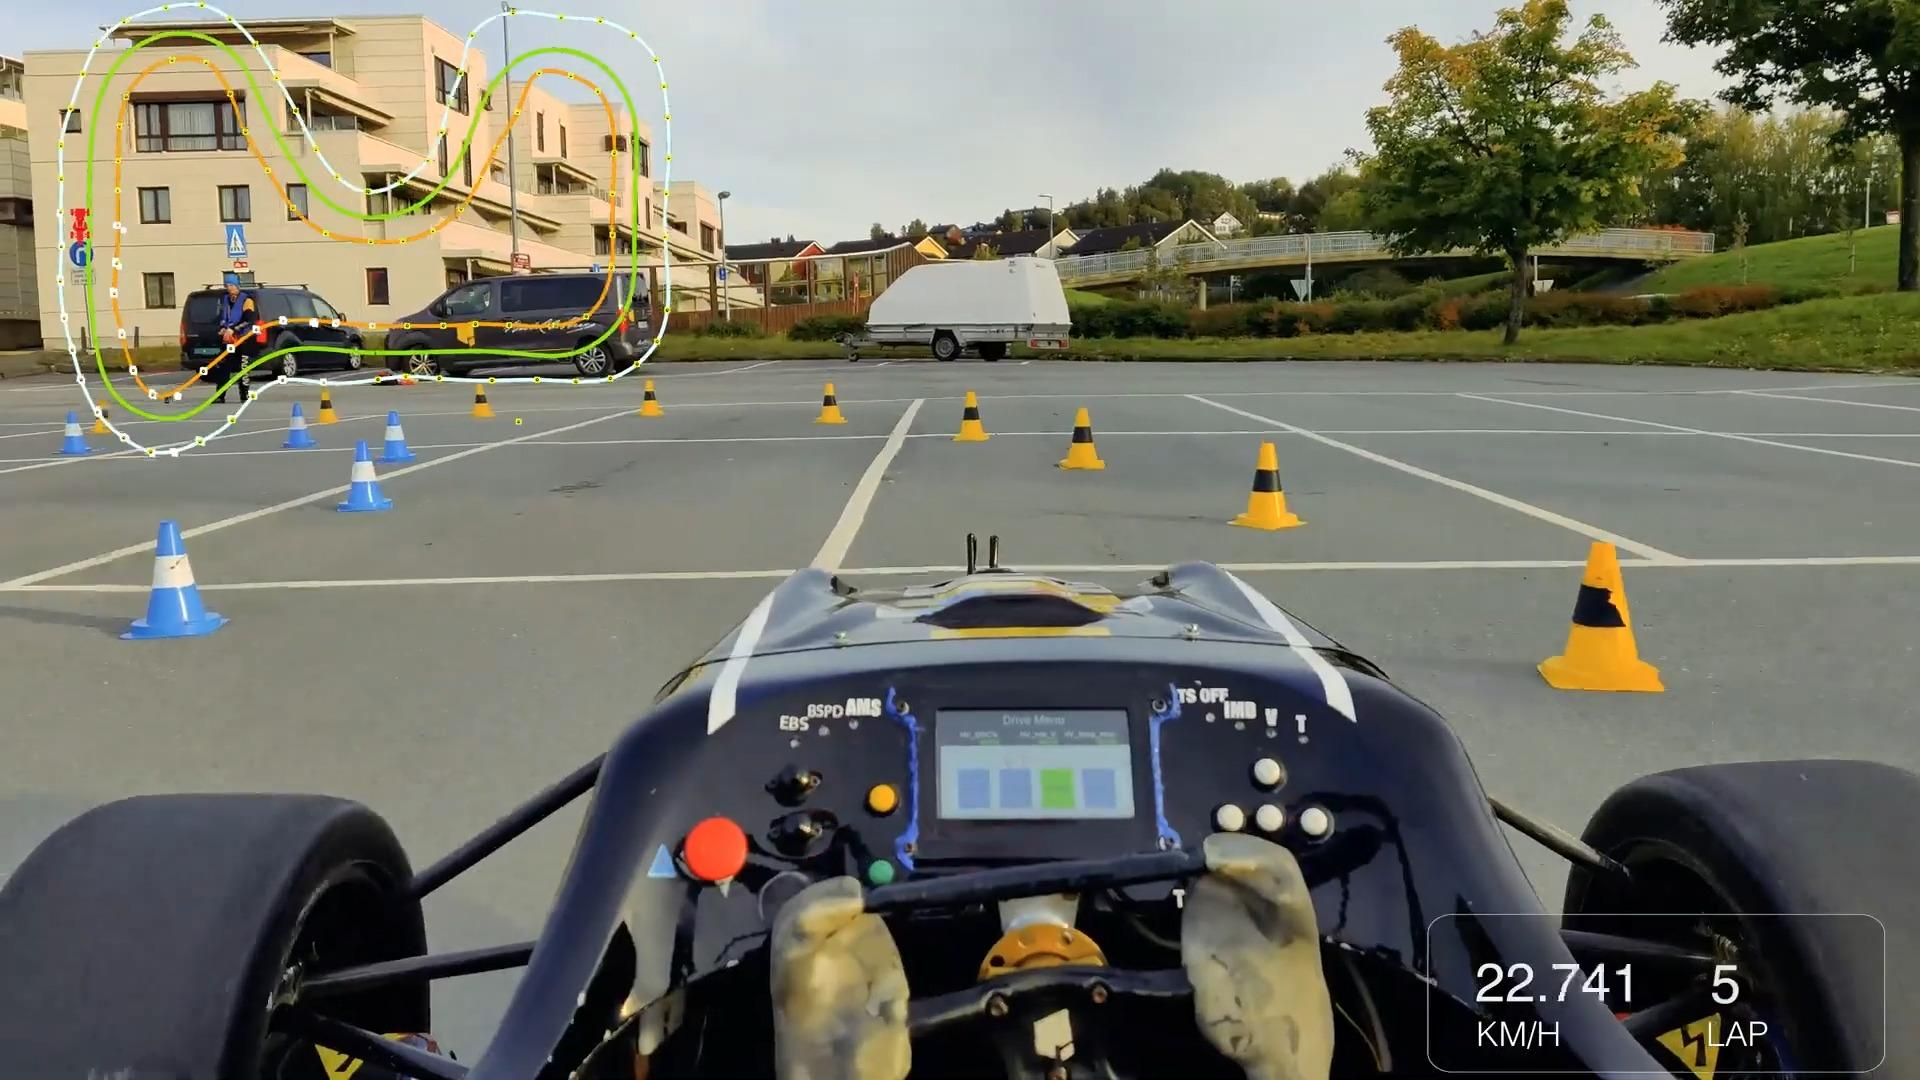blue_cone: (131, 518, 224, 644), (338, 436, 394, 513), (378, 410, 422, 467), (284, 404, 316, 452), (61, 406, 91, 455)
yellow_cone: (1544, 539, 1659, 692), (1232, 442, 1299, 530), (1060, 406, 1106, 469), (957, 392, 989, 443), (815, 384, 845, 425), (315, 388, 340, 427), (641, 377, 663, 418), (472, 384, 496, 421), (91, 400, 113, 435)
